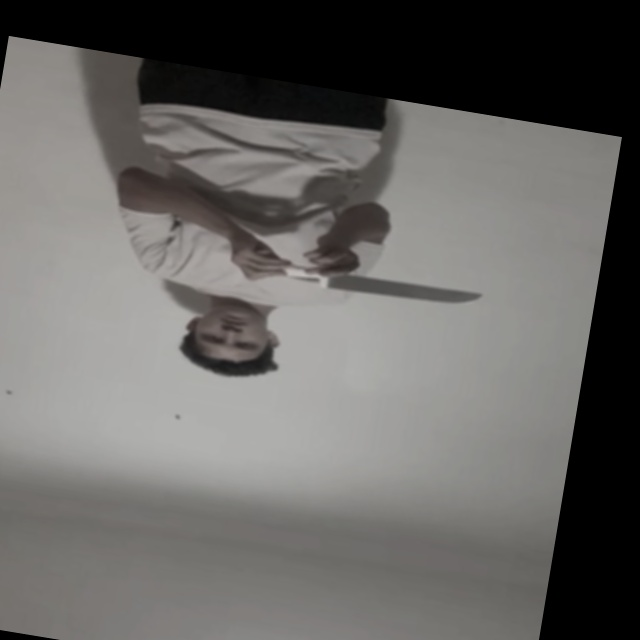Sharp-Object: (325, 269, 487, 317)
